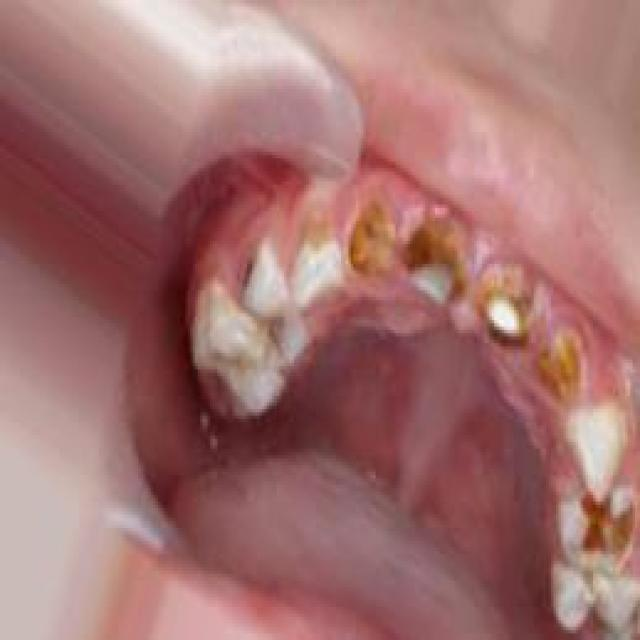caries: (555, 474, 640, 580), (402, 213, 473, 314), (466, 254, 540, 349), (528, 319, 599, 417), (342, 198, 400, 283), (290, 197, 342, 270), (229, 240, 274, 312)
